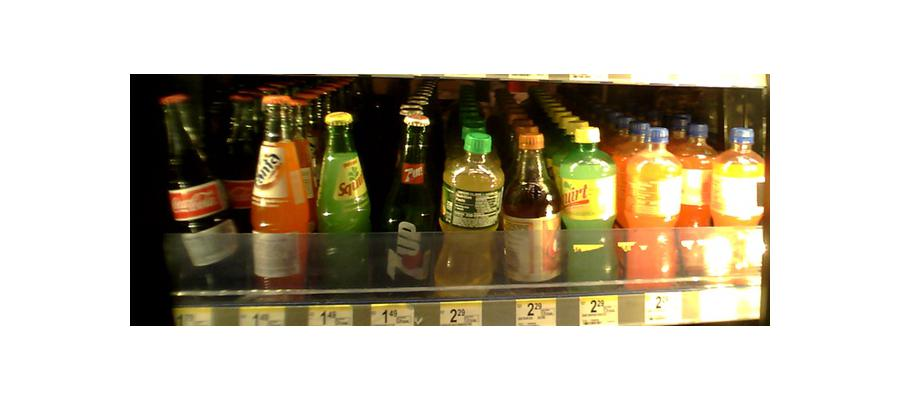bottle: (161, 95, 243, 302), (249, 95, 312, 298), (316, 104, 370, 291), (438, 126, 501, 285), (621, 118, 680, 286), (561, 119, 618, 284), (504, 125, 562, 286), (387, 106, 440, 282), (714, 120, 765, 278), (680, 110, 717, 271)
